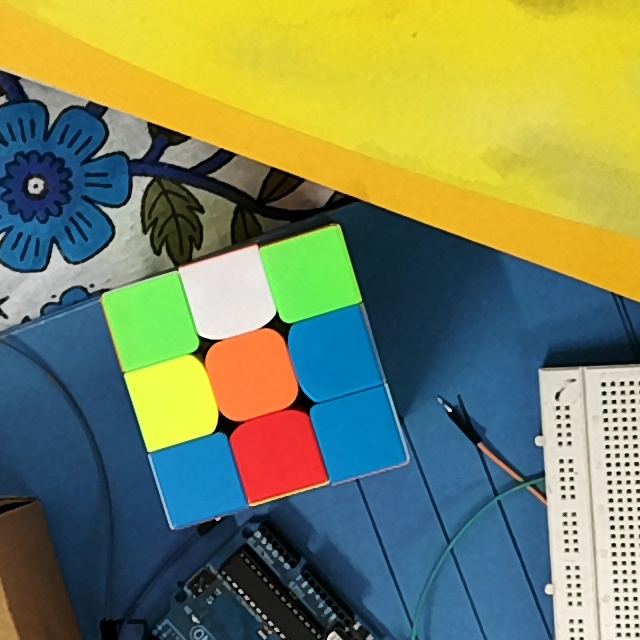tile: (305, 323, 366, 385), (279, 244, 342, 304), (245, 424, 308, 483), (219, 346, 284, 403), (169, 449, 228, 506), (121, 294, 181, 350), (146, 372, 202, 431), (200, 267, 258, 323), (329, 407, 387, 462)
